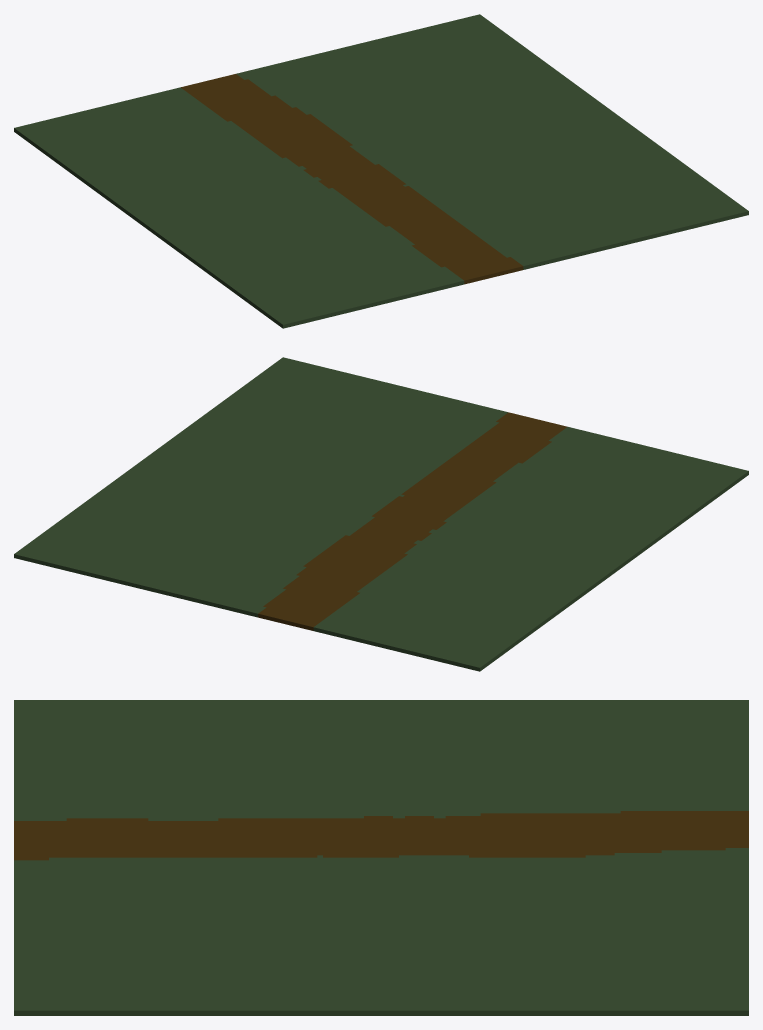
The model's file is grass_tile_dirtpath_straight.obj.
The picture shows the model from 3 angles, top to bottom: view 1: azimuth 30°, elevation 25°; view 2: azimuth 150°, elevation 25°; view 3: azimuth 270°, elevation 25°; orthographic projection. The views are drawn at different scales.
Bounding box in the file's own units: 126 × 1 × 126.
